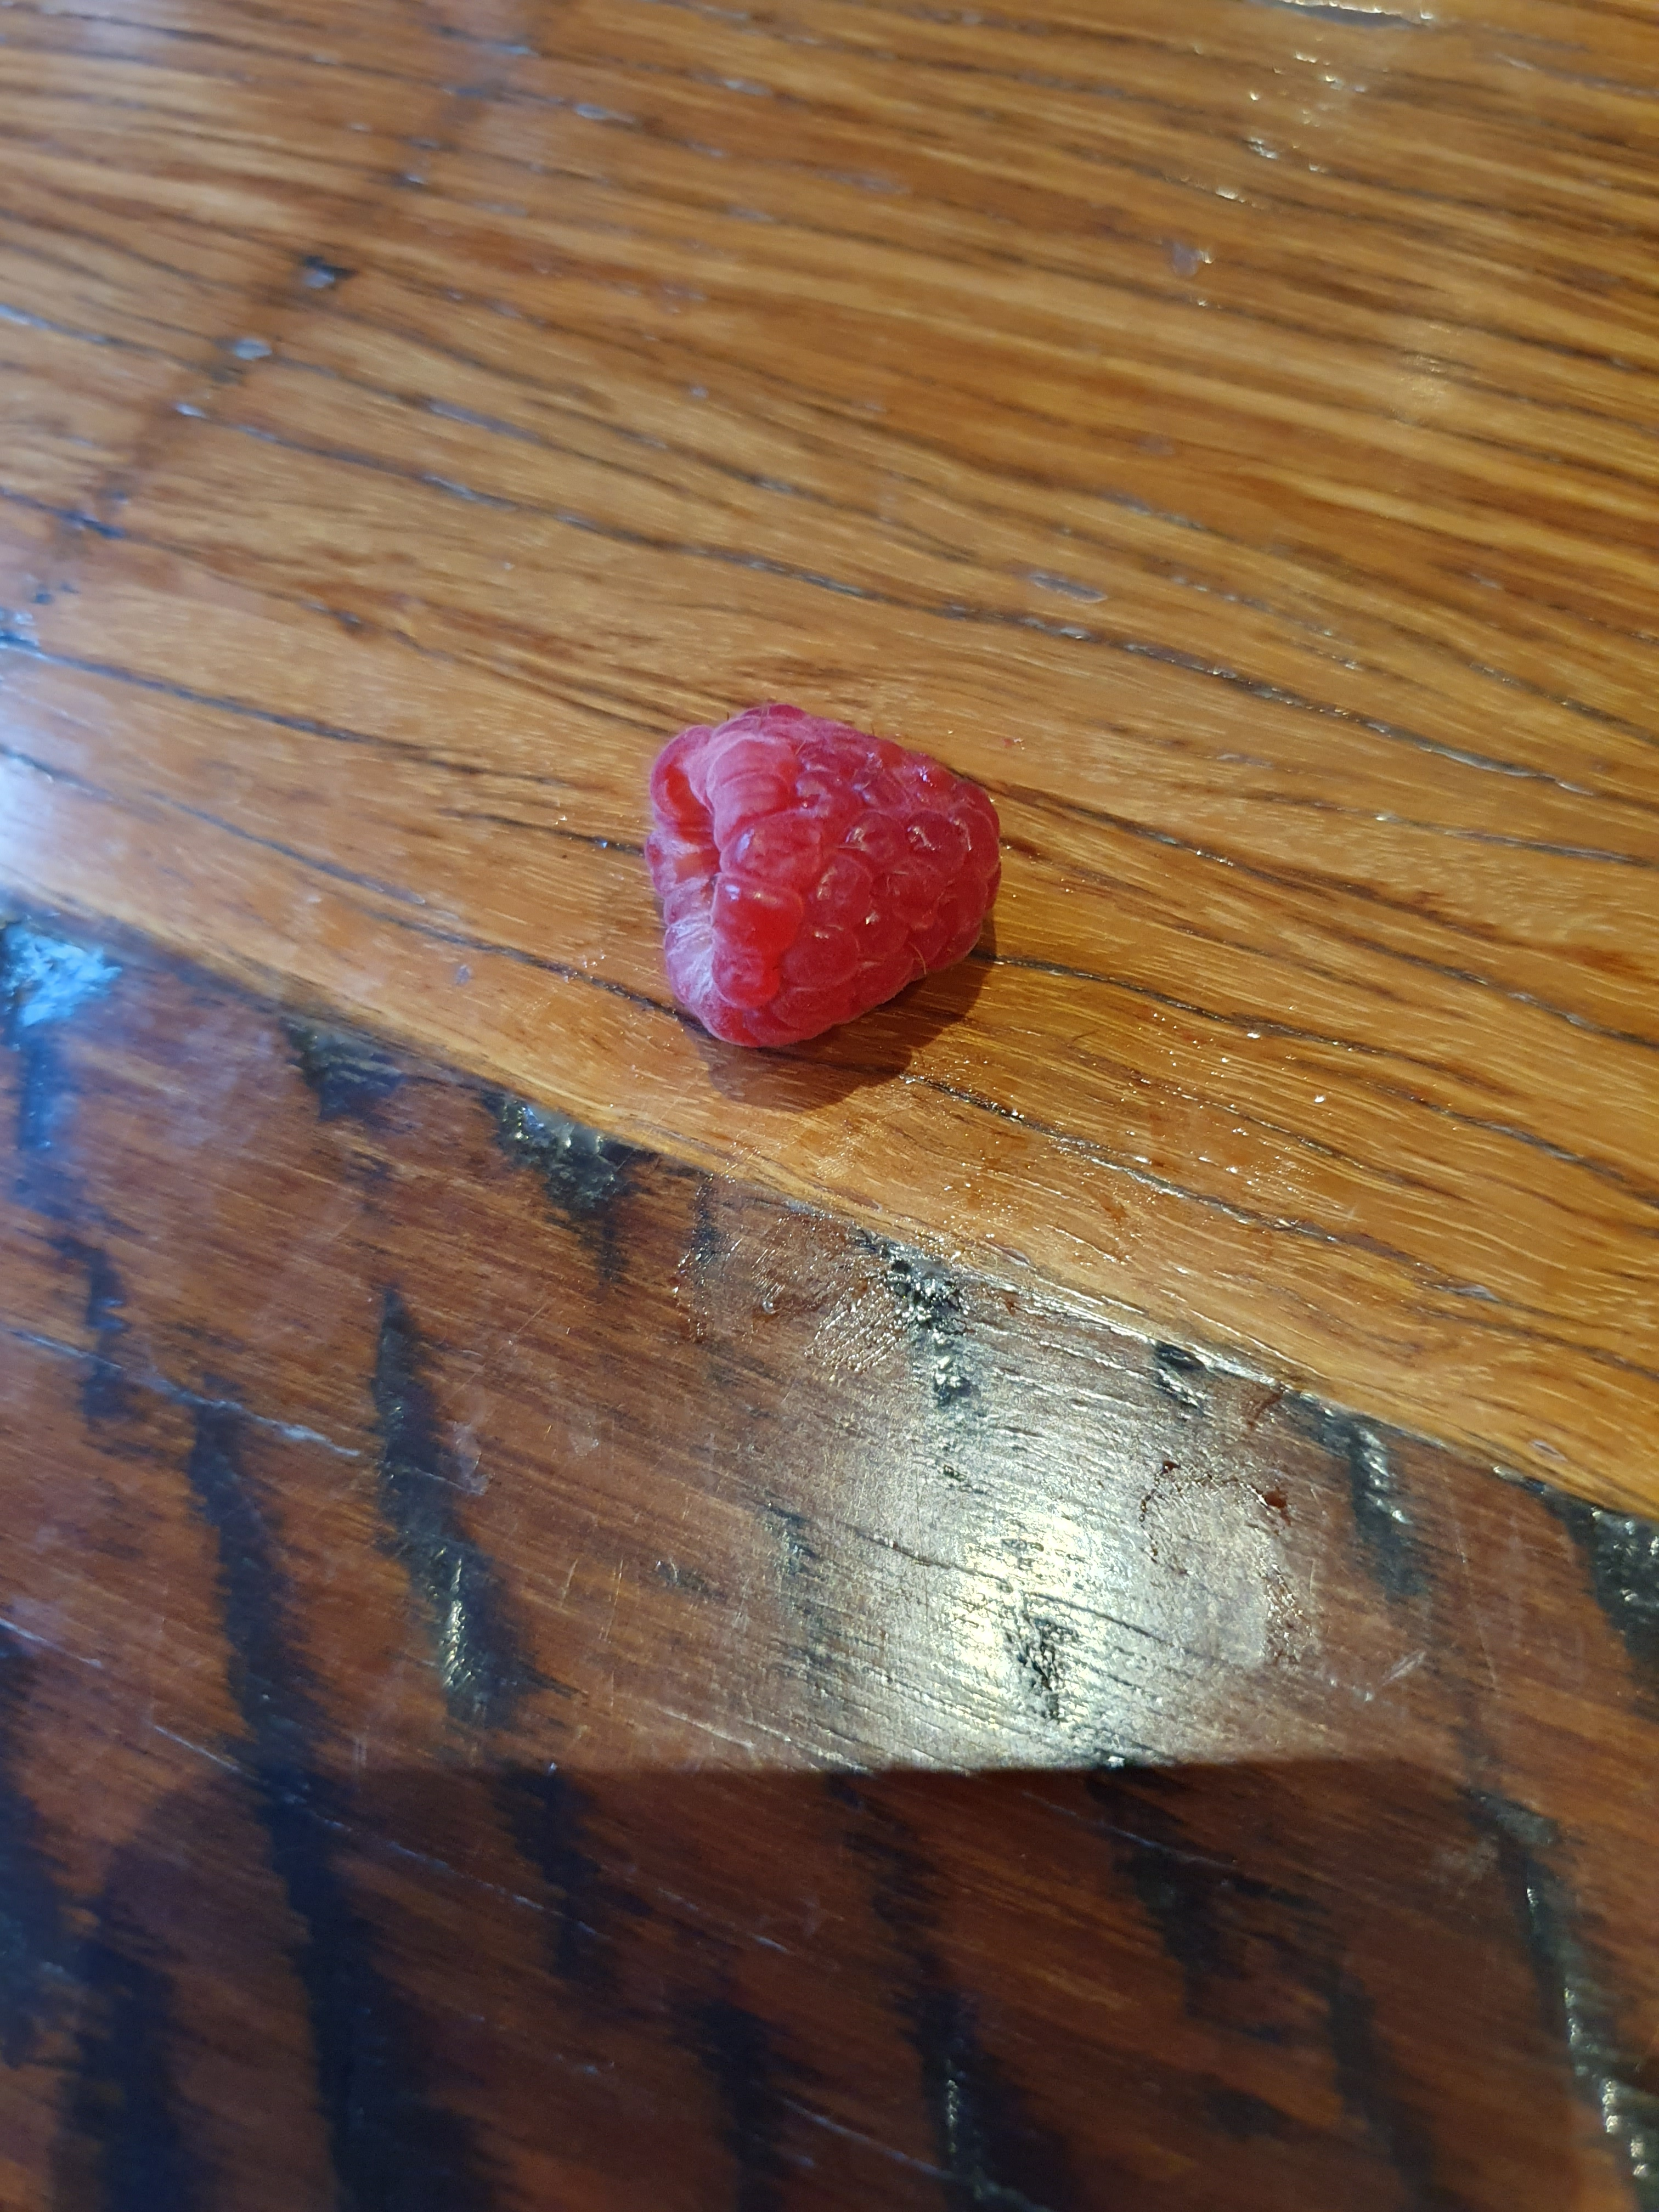raspberry: (598, 665, 1035, 1064)
